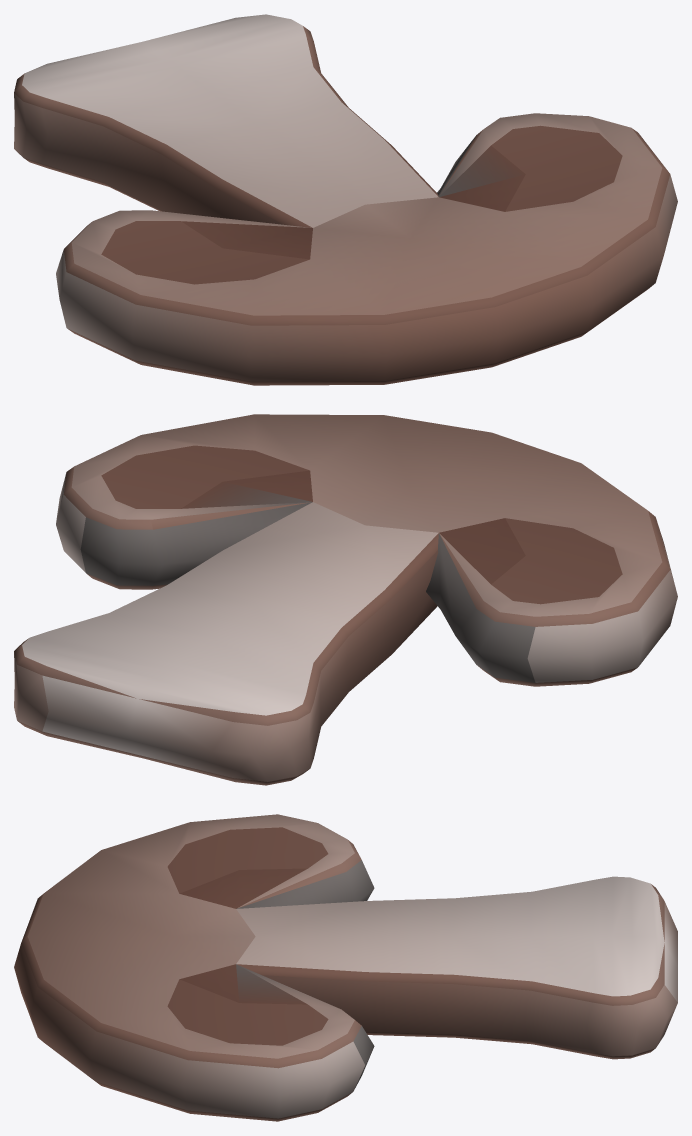
File: mushroom_006.glb
The picture shows the model from 3 angles, top to bottom: view 1: azimuth 30°, elevation 25°; view 2: azimuth 150°, elevation 25°; view 3: azimuth 270°, elevation 25°; orthographic projection. The views are drawn at different scales.
Parts seen in each view (by area): view 1: mushroom_006; view 2: mushroom_006; view 3: mushroom_006.
Boxes of the visible parts, x1,y1,x2,y2 form: mushroom_006: (14,14,677,385); mushroom_006: (14,414,677,785); mushroom_006: (14,814,677,1121).
Bounding box in the file's own units: 0.0644 × 0.00738 × 0.0706.
Materials: 1 (1 with a texture image).
